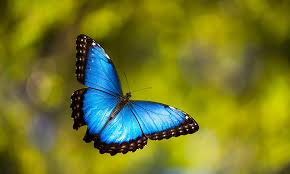Butterfly: (69, 31, 200, 157)
